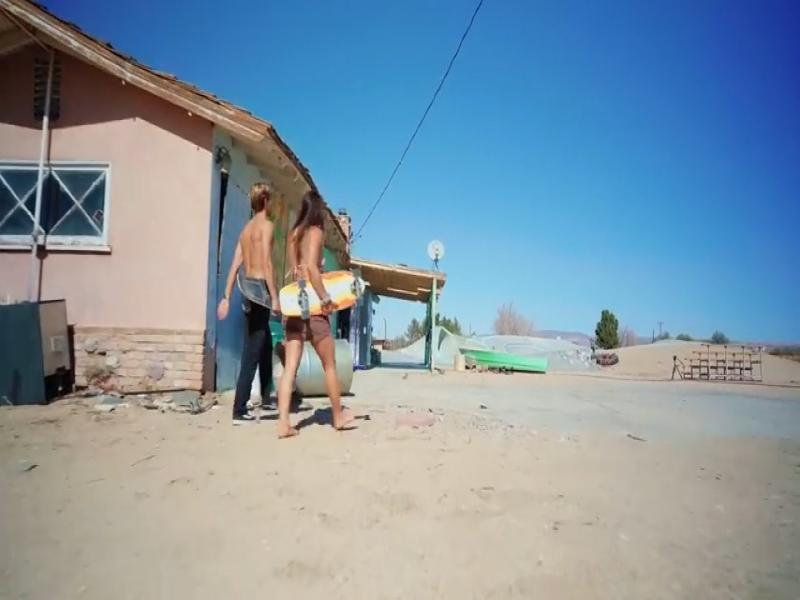person: (278, 190, 353, 439), (217, 181, 280, 424)
skate: (322, 271, 366, 310), (280, 281, 322, 318), (238, 277, 272, 308)
